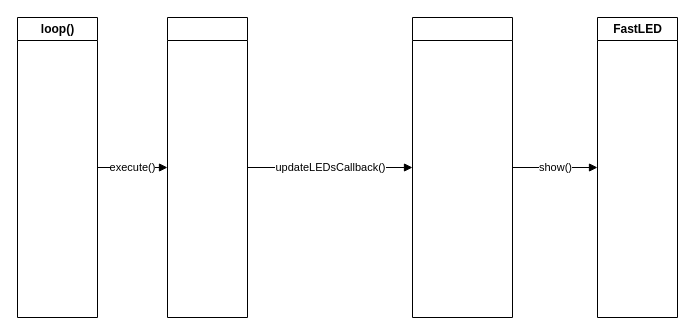
This 695x335 diagram has some shape labels left out. The shapes that lost their labels are listed below. From the top down, each one's centre as x and y in pixels, then its label:
At point 207,167: "runner".
At point 462,167: "taskUpdateLEDs".
